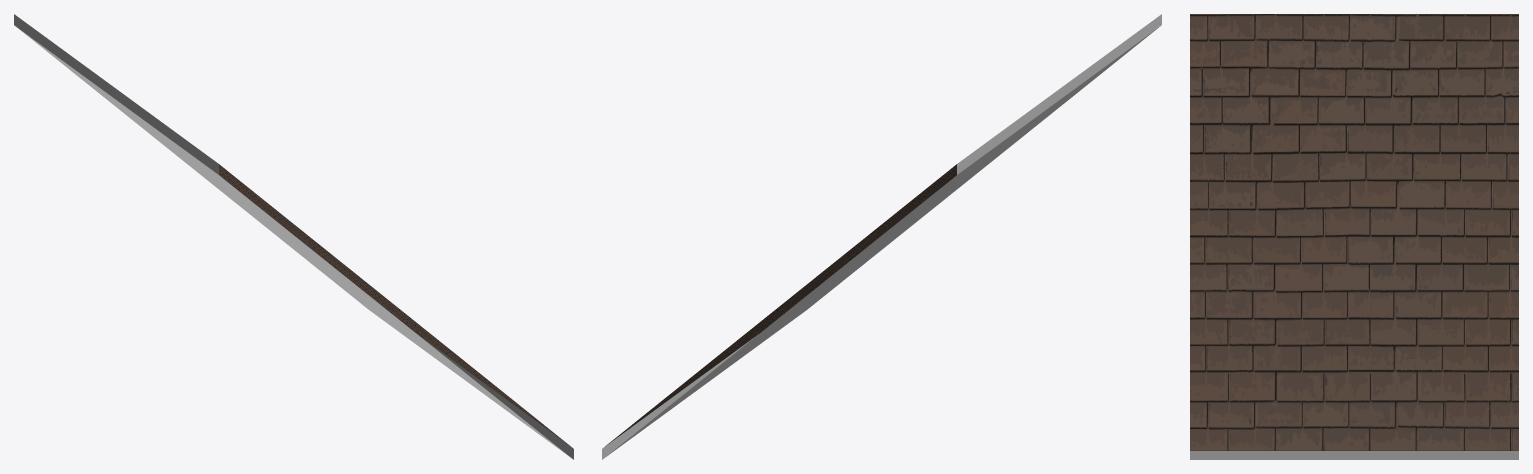
File: Roof_01.FBX
The picture shows the model from 3 angles, left to right: view 1: azimuth 30°, elevation 25°; view 2: azimuth 150°, elevation 25°; view 3: azimuth 270°, elevation 25°; orthographic projection. The views are drawn at different scales.
Parts seen in each view (by area): view 1: Box098; view 2: Box098; view 3: Box098.
Boxes of the visible parts, x1,y1,x2,y2 form: Box098: (14, 14, 573, 459); Box098: (602, 14, 1161, 459); Box098: (1190, 14, 1518, 459).
Size of the model in its own units: 500 by 515 by 500.
